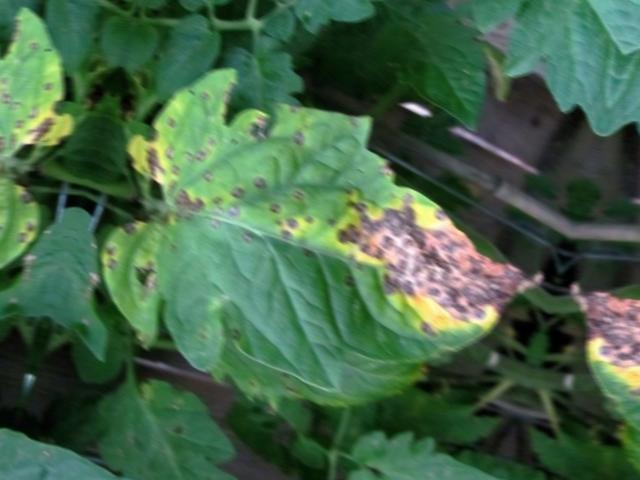Tomato Septoria leaf spot: (83, 43, 578, 452)
